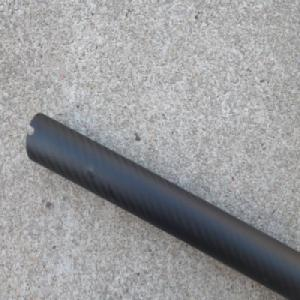LuggagePart: (23, 112, 300, 299)
